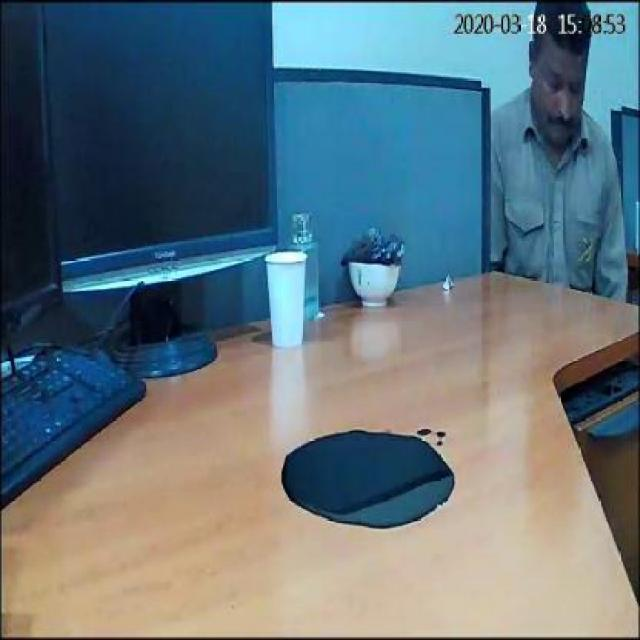spill: (281, 424, 448, 532)
